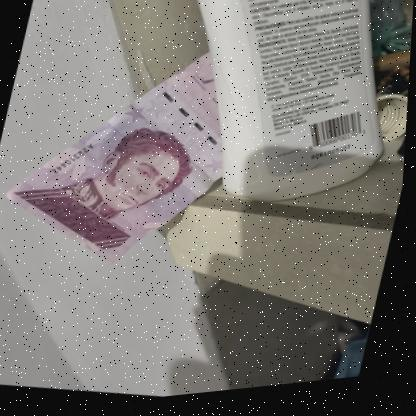one_hundred-front-vef: (0, 20, 254, 293)
